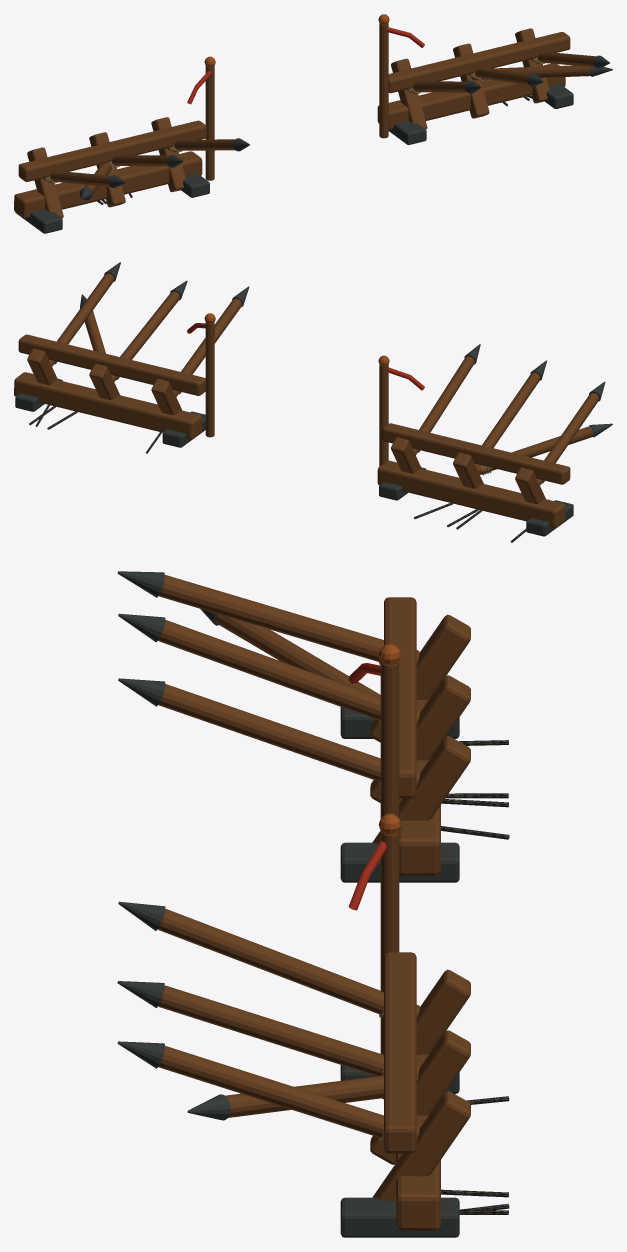
The model's file is anti_cavalry_stakes_gap_LOD0.glb.
3 renders of one model, top to bottom at view 1: azimuth 30°, elevation 25°; view 2: azimuth 150°, elevation 25°; view 3: azimuth 270°, elevation 25°, orthographic. The views are drawn at different scales.
Parts seen in each view (by area): view 1: StakesRearCrossbar, StakesRearCrossbar.001, StakesBaseSill, StakesBaseSill.001, GapMarkerPost.001, GapMarkerPost, CavalrySideTooth_Oak.001, StakesAFrameLeg.003, StakesAFrameLeg, StakesAFrameLeg.004, StakesAFrameLeg.002, CavalryPike_Oak.002 (+11 smaller); view 2: StakesBaseSill, StakesBaseSill.001, StakesRearCrossbar, StakesRearCrossbar.001, GapMarkerPost.001, CavalryPike_Oak.001, CavalryPike_Oak.002, CavalryPike_Oak.005, CavalryPike_Oak.004, CavalryPike_Oak, CavalryPike_Oak.003, GapMarkerPost (+12 smaller); view 3: StakesRearCrossbar.001, CavalryPike_Oak.003, CavalryPike_Oak.005, CavalryPike_Oak.001, CavalryPike_Oak.004, CavalryPike_Oak.002, CavalryPike_Oak, StakesRearCrossbar, StakesAFrameLeg.005, StakesGroundShoe.003, StakesAFrameLeg.002, StakesAFrameLeg.004 (+11 smaller).
Part boxes in pixels (x1=…): StakesRearCrossbar: x1=18, y1=120, x2=206, y2=181; StakesRearCrossbar.001: x1=388, y1=32, x2=570, y2=93; StakesBaseSill: x1=14, y1=151, x2=202, y2=218; StakesBaseSill.001: x1=377, y1=63, x2=565, y2=129; GapMarkerPost.001: x1=379, y1=23, x2=388, y2=138; GapMarkerPost: x1=205, y1=66, x2=214, y2=180; CavalrySideTooth_Oak.001: x1=471, y1=65, x2=590, y2=80; StakesAFrameLeg.003: x1=391, y1=58, x2=427, y2=129; StakesAFrameLeg: x1=27, y1=147, x2=63, y2=218; StakesAFrameLeg.004: x1=453, y1=43, x2=489, y2=118; StakesAFrameLeg.002: x1=151, y1=117, x2=185, y2=192; CavalryPike_Oak.002: x1=167, y1=139, x2=234, y2=150; StakesBaseSill: x1=377, y1=460, x2=565, y2=527; StakesBaseSill.001: x1=14, y1=372, x2=202, y2=439; StakesRearCrossbar: x1=382, y1=423, x2=570, y2=484; StakesRearCrossbar.001: x1=18, y1=334, x2=205, y2=395; GapMarkerPost.001: x1=205, y1=322, x2=214, y2=437; CavalryPike_Oak.001: x1=475, y1=372, x2=540, y2=468; CavalryPike_Oak.002: x1=412, y1=356, x2=474, y2=455; CavalryPike_Oak.005: x1=49, y1=273, x2=114, y2=366; CavalryPike_Oak.004: x1=111, y1=291, x2=180, y2=381; CavalryPike_Oak: x1=537, y1=392, x2=599, y2=485; CavalryPike_Oak.003: x1=173, y1=298, x2=242, y2=396; GapMarkerPost: x1=379, y1=364, x2=388, y2=466; StakesRearCrossbar.001: x1=384, y1=952, x2=416, y2=1153; CavalryPike_Oak.003: x1=158, y1=909, x2=419, y2=1018; CavalryPike_Oak.005: x1=158, y1=1046, x2=419, y2=1140; CavalryPike_Oak.001: x1=158, y1=620, x2=419, y2=725; CavalryPike_Oak.004: x1=158, y1=985, x2=419, y2=1078; CavalryPike_Oak.002: x1=158, y1=684, x2=419, y2=786; CavalryPike_Oak: x1=158, y1=575, x2=419, y2=664; StakesRearCrossbar: x1=384, y1=597, x2=416, y2=798; StakesAFrameLeg.005: x1=372, y1=1091, x2=470, y2=1200; StakesGroundShoe.003: x1=340, y1=1197, x2=459, y2=1237; StakesAFrameLeg.002: x1=372, y1=736, x2=470, y2=844; StakesAFrameLeg.004: x1=370, y1=1030, x2=470, y2=1164.
Bounding box in the file's own units: 6.15 × 1.36 × 1.91.
Materials: 6 (1 with a texture image).
